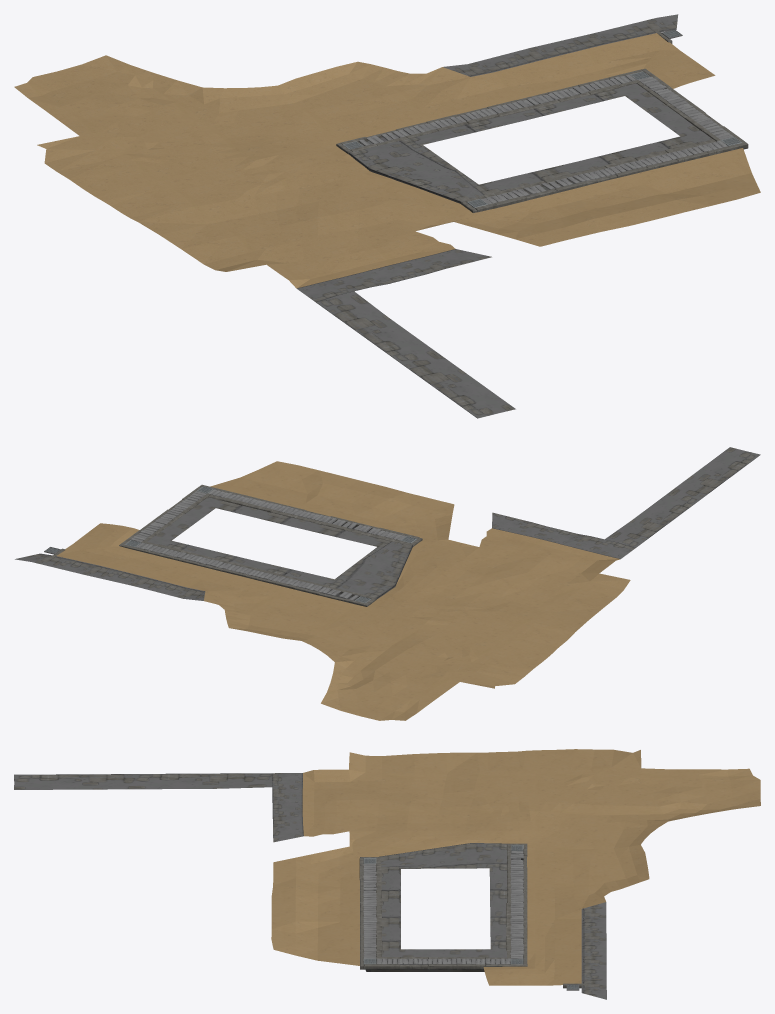
Rendered from konohavill_ground_11.fbx.
3 views of the same model, one above another, from view 1: azimuth 30°, elevation 25°; view 2: azimuth 150°, elevation 25°; view 3: azimuth 270°, elevation 25° (orthographic). The views are drawn at different scales.
Parts seen in each view (by area): view 1: SM_ENV_KNVLLG_ground_11.mo; view 2: SM_ENV_KNVLLG_ground_11.mo; view 3: SM_ENV_KNVLLG_ground_11.mo.
Part boxes in pixels (box(x1,y1,x2,y2)): SM_ENV_KNVLLG_ground_11.mo: box(14, 14, 760, 418); SM_ENV_KNVLLG_ground_11.mo: box(15, 447, 760, 720); SM_ENV_KNVLLG_ground_11.mo: box(14, 749, 760, 999).
Bounding box in the file's own units: 4644 × 112 × 5884.
